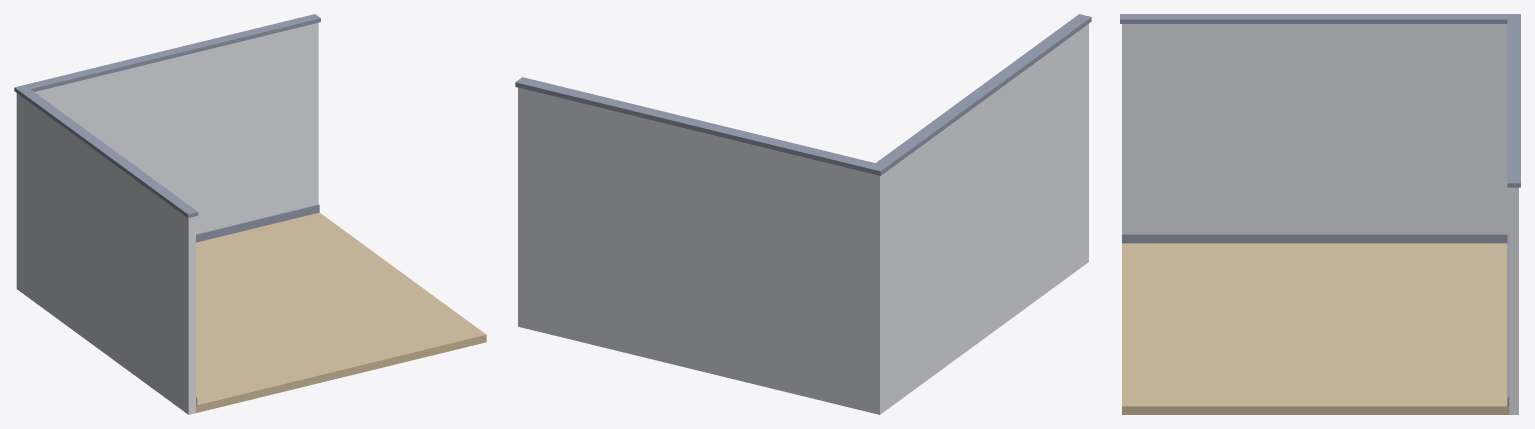
The model's file is shell.69f00c77fe96.glb.
3 views of the same model, side by side, from view 1: azimuth 30°, elevation 25°; view 2: azimuth 150°, elevation 25°; view 3: azimuth 270°, elevation 25° (orthographic). The views are drawn at different scales.
Visible parts, largest first — view 1: shell_walls, shell_floor, shell_trim; view 2: shell_walls, shell_trim; view 3: shell_walls, shell_floor, shell_trim.
Part boxes in pixels (x1,y1,x2,y2): shell_walls: [16, 22, 318, 414]; shell_floor: [196, 212, 486, 412]; shell_trim: [14, 14, 320, 405]; shell_walls: [518, 24, 1088, 414]; shell_trim: [515, 14, 1091, 175]; shell_walls: [1122, 24, 1518, 414]; shell_floor: [1122, 243, 1509, 414]; shell_trim: [1120, 14, 1520, 406].
Bounding box in the file's own units: 4.14 × 2.65 × 4.14.
